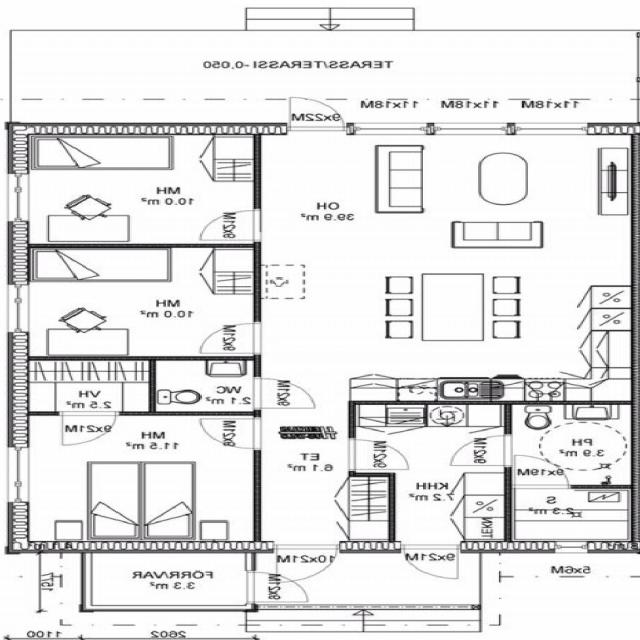door: (278, 541, 336, 586), (405, 542, 458, 582), (290, 94, 342, 134), (245, 573, 308, 602), (200, 211, 262, 240), (451, 436, 512, 465), (202, 324, 262, 353), (254, 379, 314, 408), (202, 419, 262, 448), (349, 439, 408, 468), (516, 457, 566, 491), (64, 412, 115, 444)
